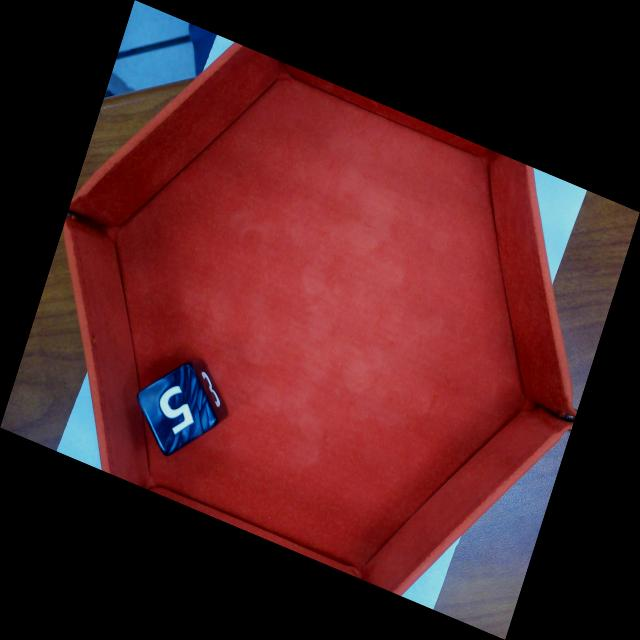dice: (135, 360, 220, 462)
